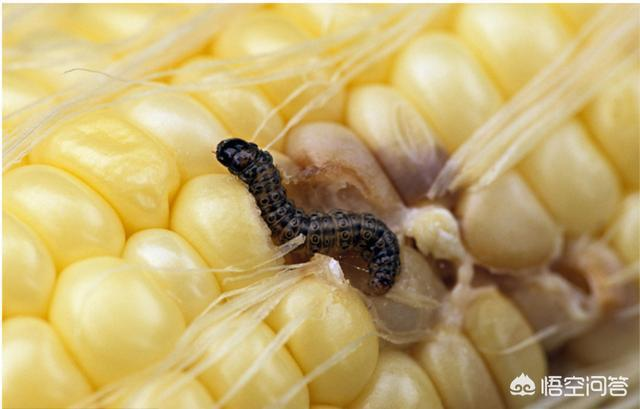caterpillars: (189, 69, 425, 301)
